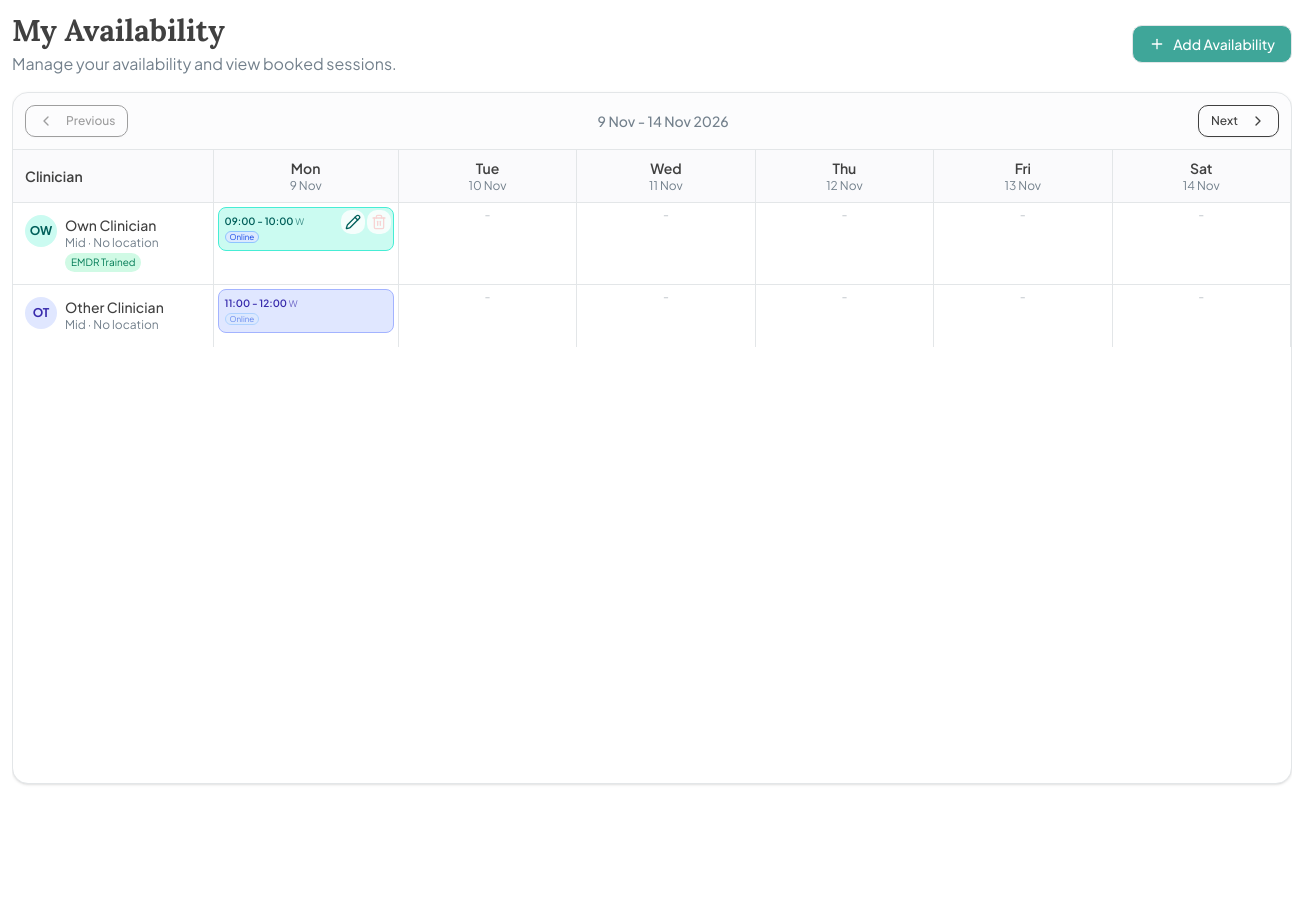
Test: lets a clinician switch their own free slot in both directions and refreshes the displayed label
The width and height of the screenshot is (1304, 912).
Click the button with test id "button-toggle-location-own-slot".
click(242, 237)  # box [224,231,259,243]
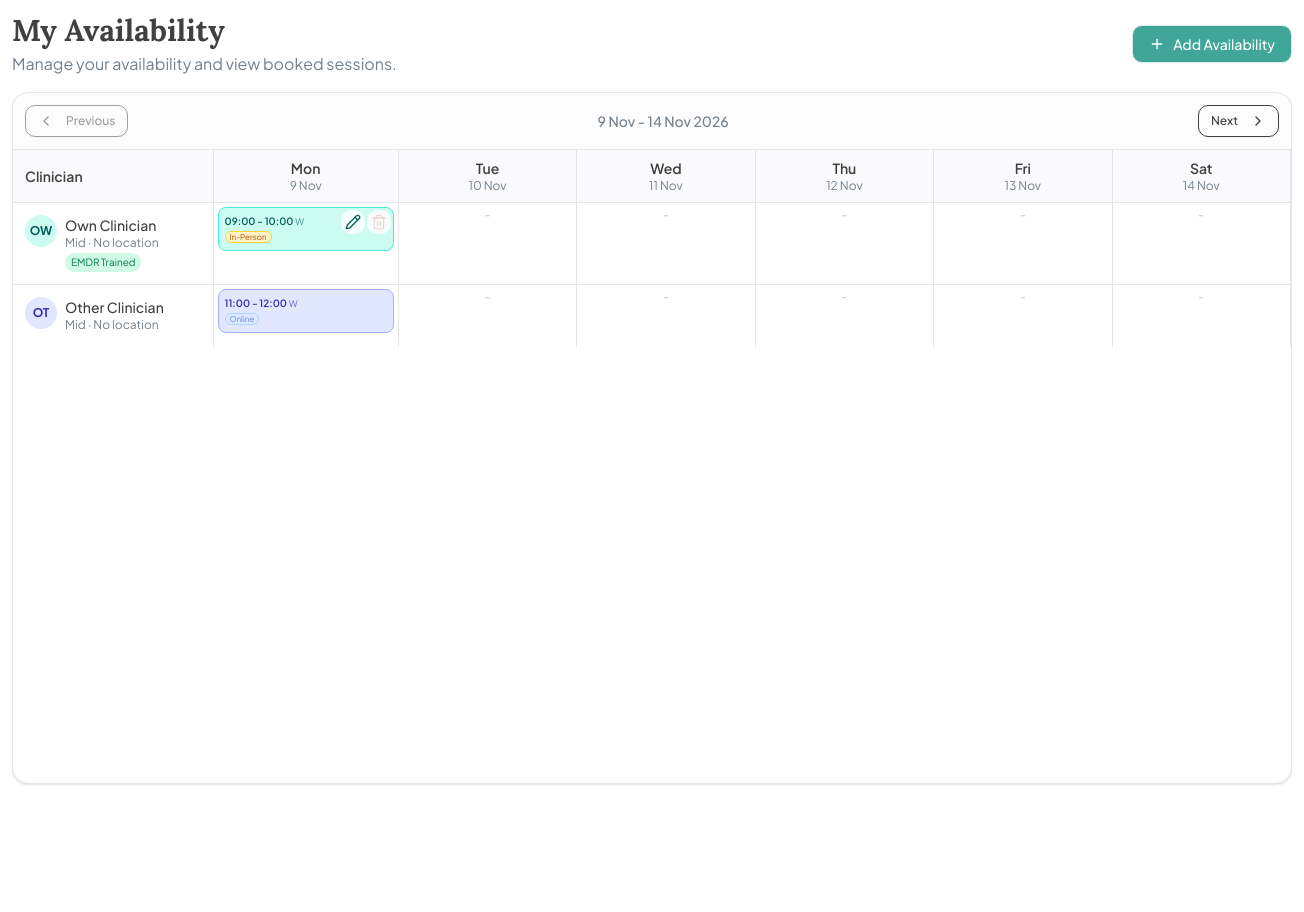
Now the button with test id "button-toggle-location-own-slot" reads "In-Person"
Click the button with test id "button-toggle-location-own-slot".
click(248, 237)  # box [224,231,272,243]
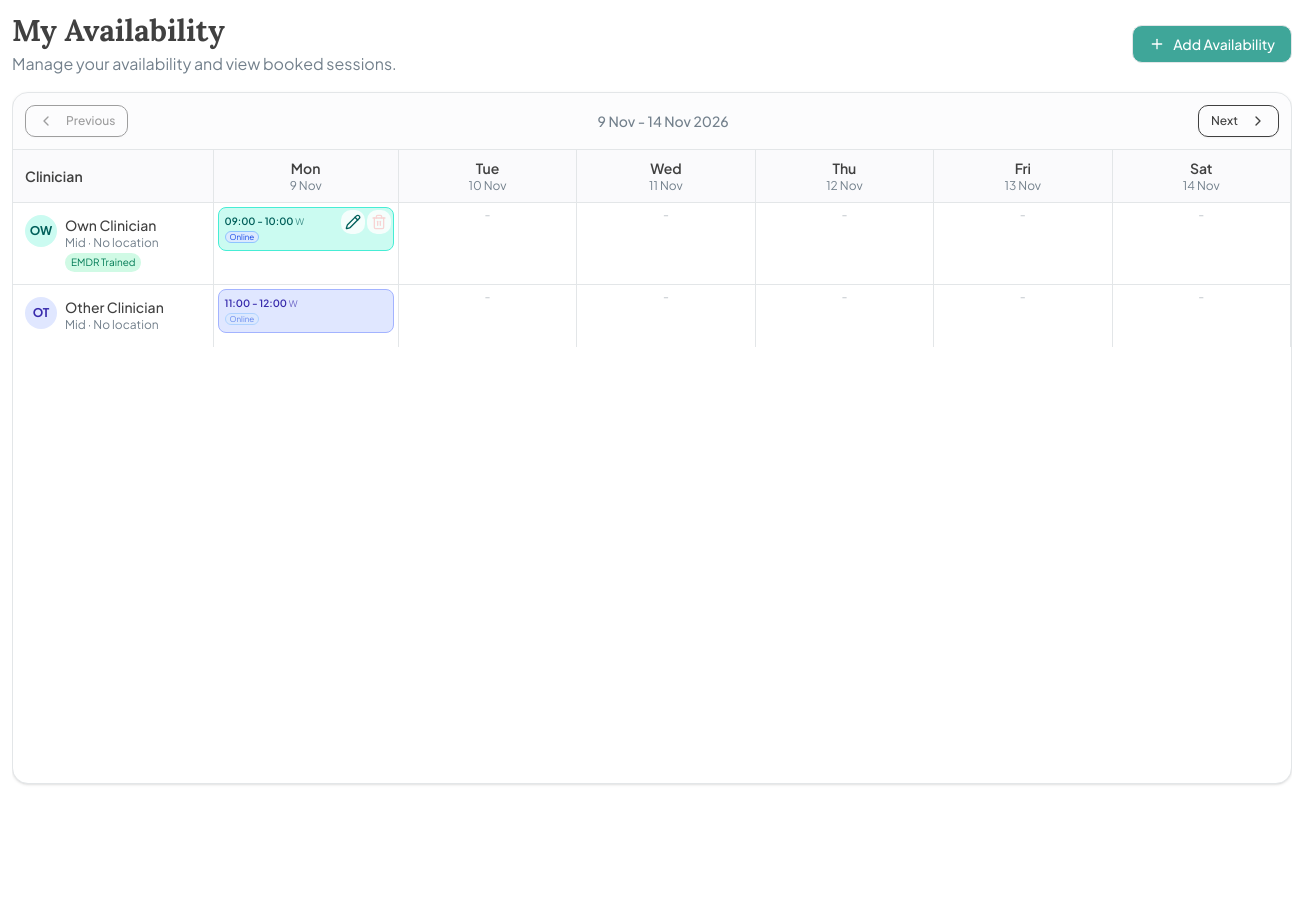
Now the button with test id "button-toggle-location-own-slot" reads "Online", box [224,231,259,243]
